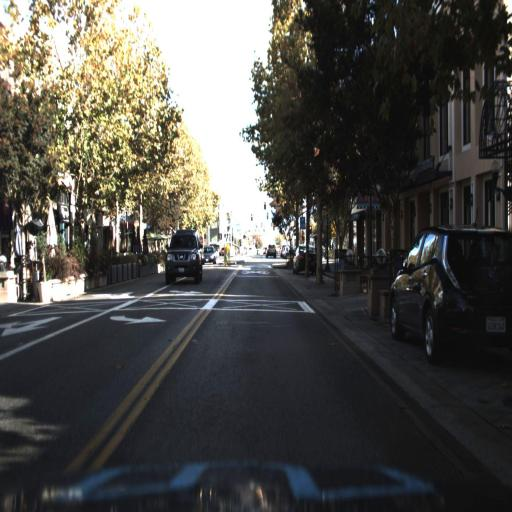car: (385, 220, 511, 365), (162, 228, 202, 291), (161, 226, 202, 286), (292, 244, 317, 276)
